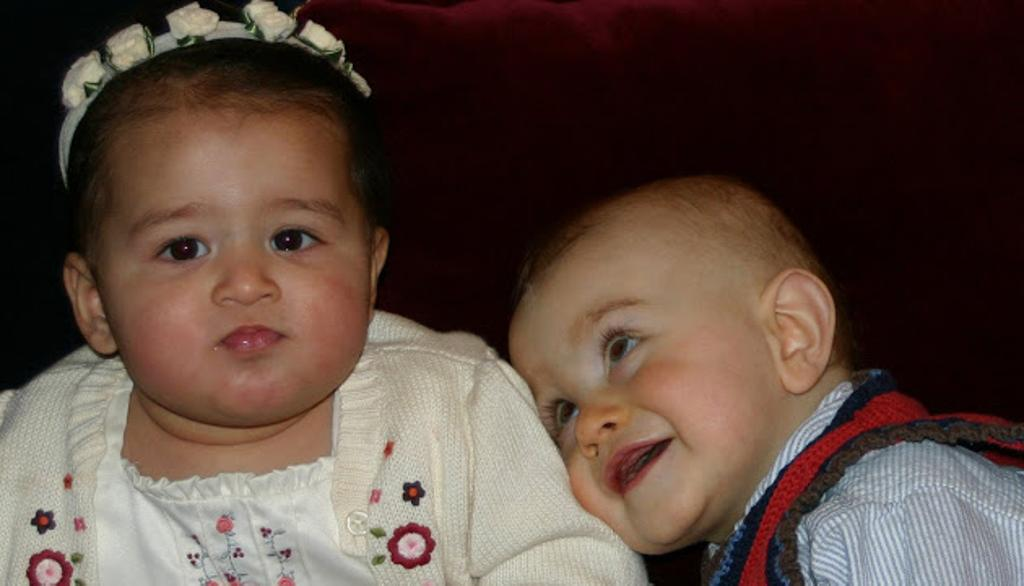face: (110, 106, 372, 424), (508, 254, 772, 558)
